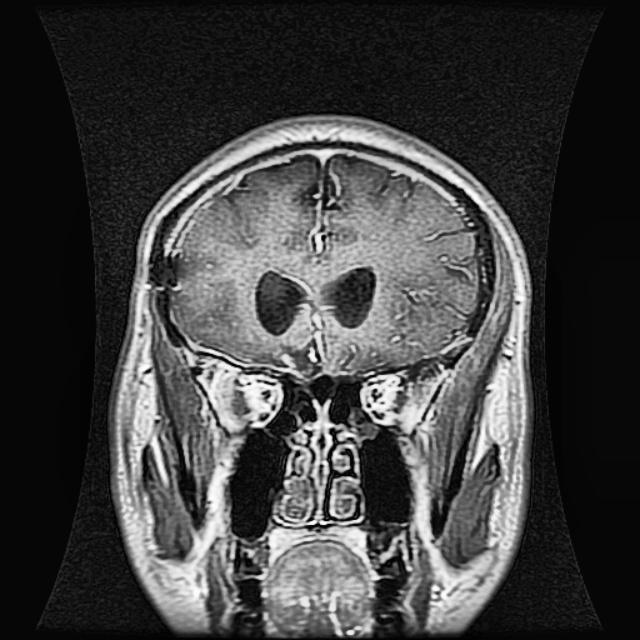Meningioma: (274, 337, 325, 378)
